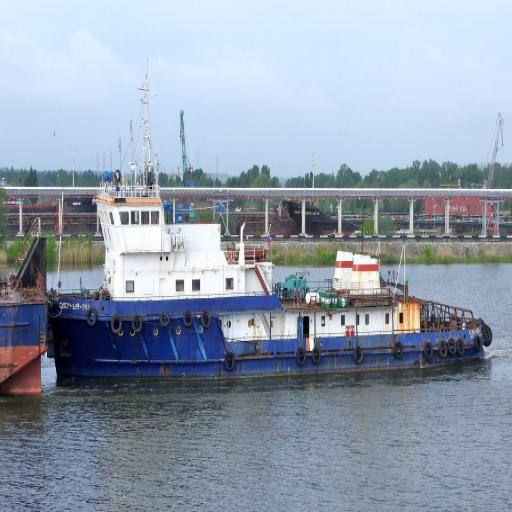tugboat: (33, 152, 497, 405)
